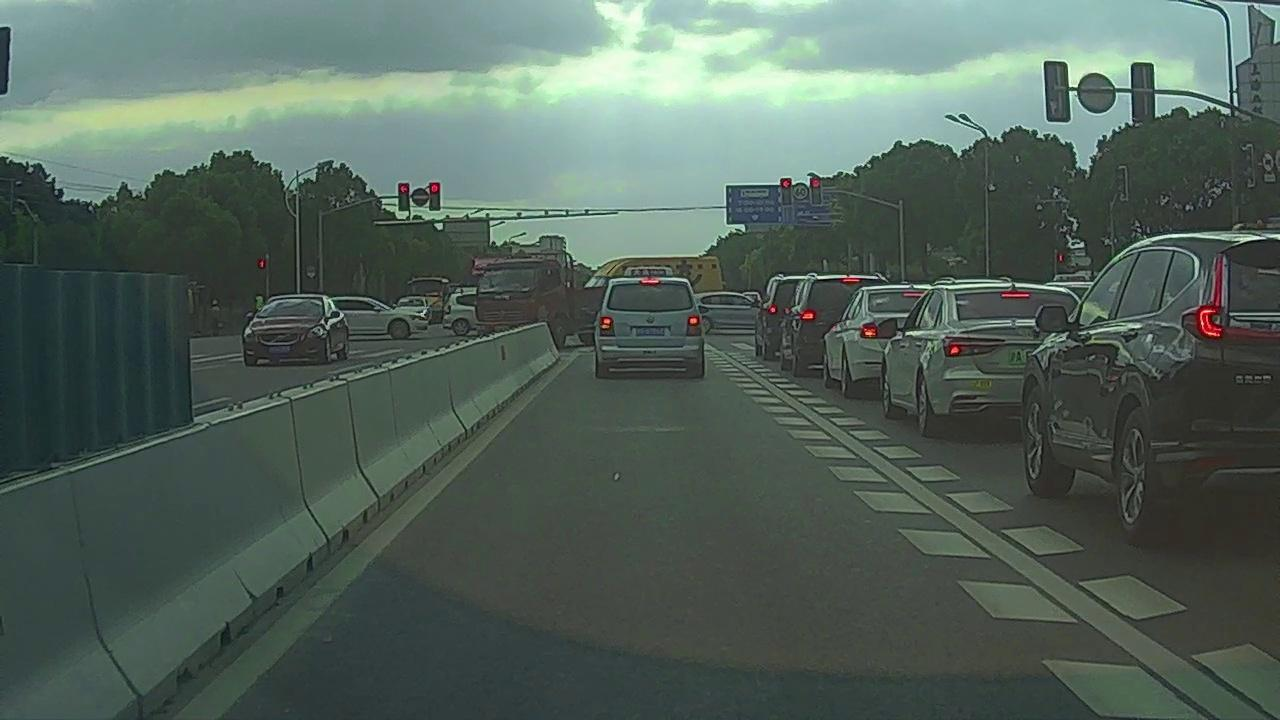traffic_light: (779, 177, 791, 205), (810, 178, 822, 205), (430, 181, 440, 211), (399, 184, 409, 210)
